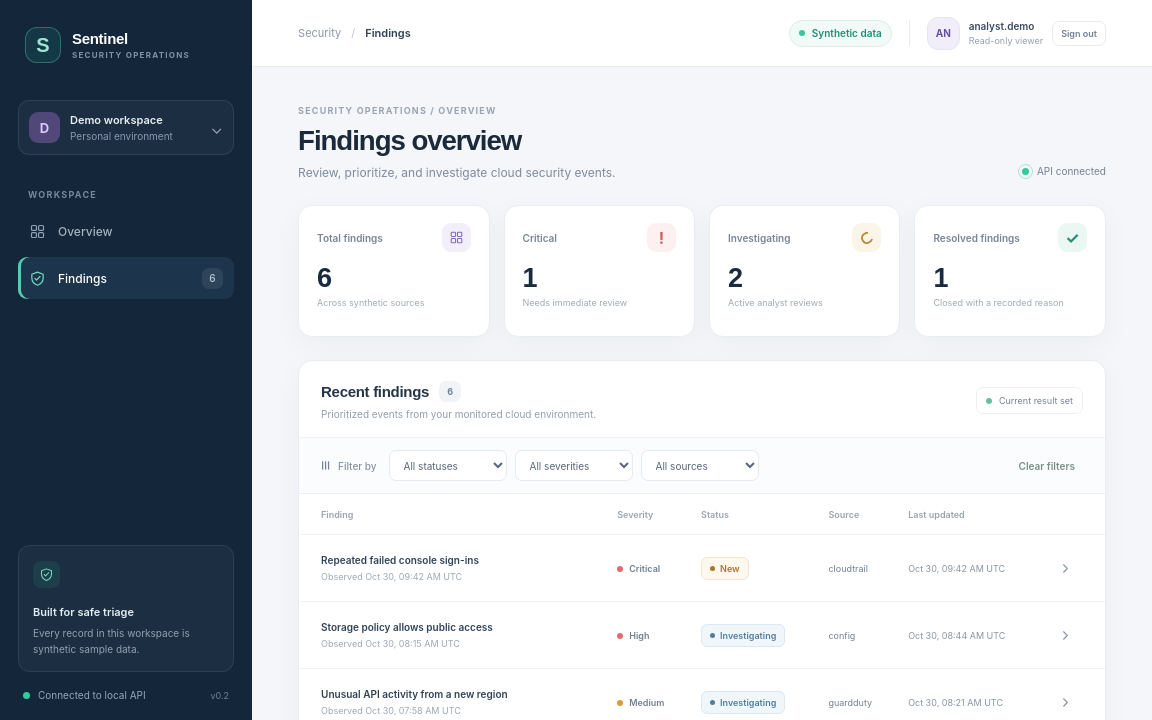
Test: API-connected findings workbench › keeps viewer sessions read-only
This screenshot has width=1152, height=720.
What coordinates should you click on to do the following:
click the button with aria-label "View Repeated failed console sign-ins"
I would click on:
 (400, 560)
Its box is x1=321 y1=554 x2=479 y2=566.
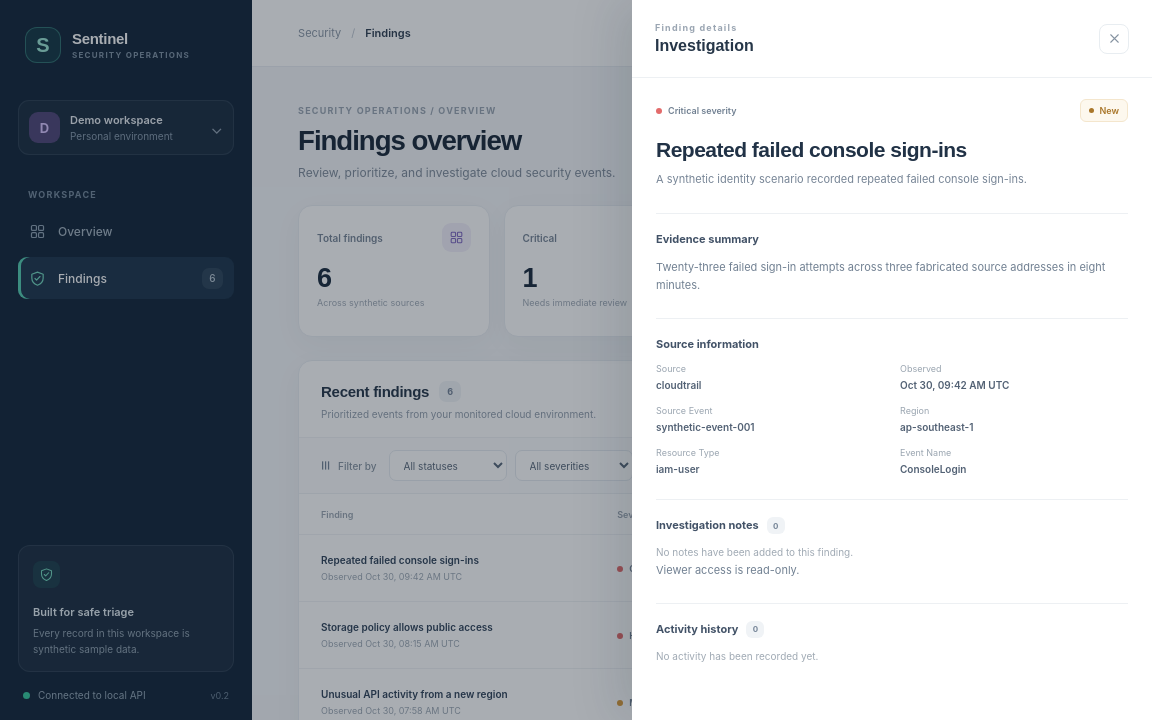
Expected: the heading "Repeated failed console sign-ins" is shown, x1=656 y1=138 x2=967 y2=161
Expected: the text "Viewer access is read-only." is shown, x1=656 y1=563 x2=800 y2=577
